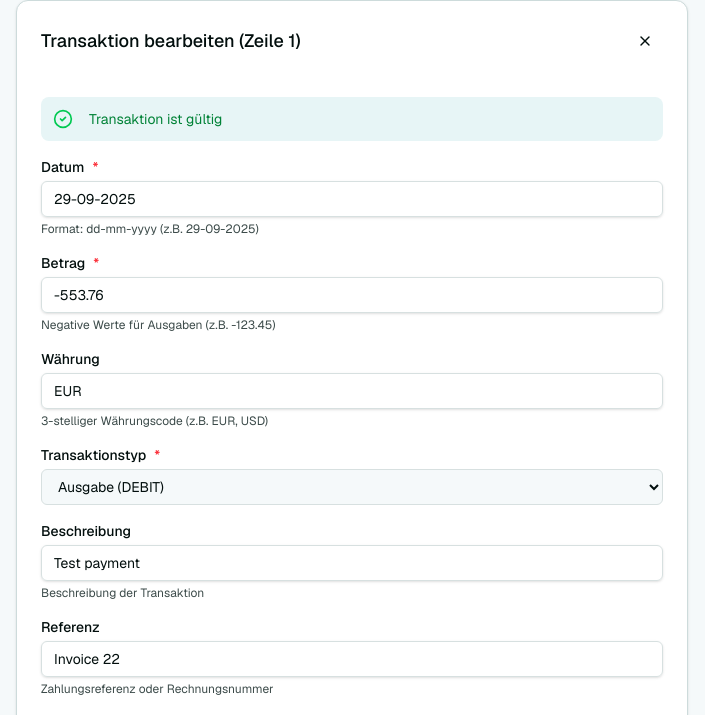
Test: RowEditor › should enable save button when changes are made
Replace the text in the 4th field showing "Test payment" with "Updated payment" at coordinates (352, 563), box [41,545,663,581]
(page scrolled)
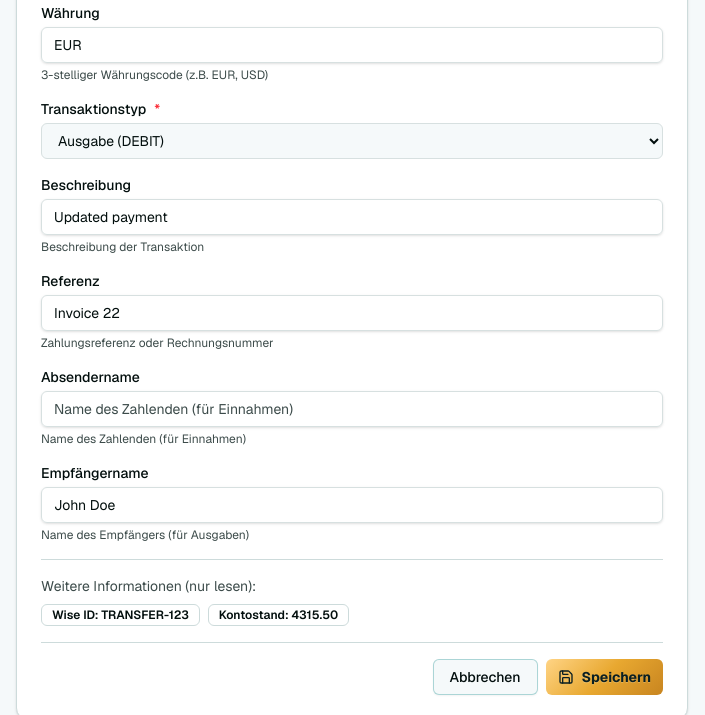
expect the button "Speichern" is enabled: met, box [546,659,663,695]
